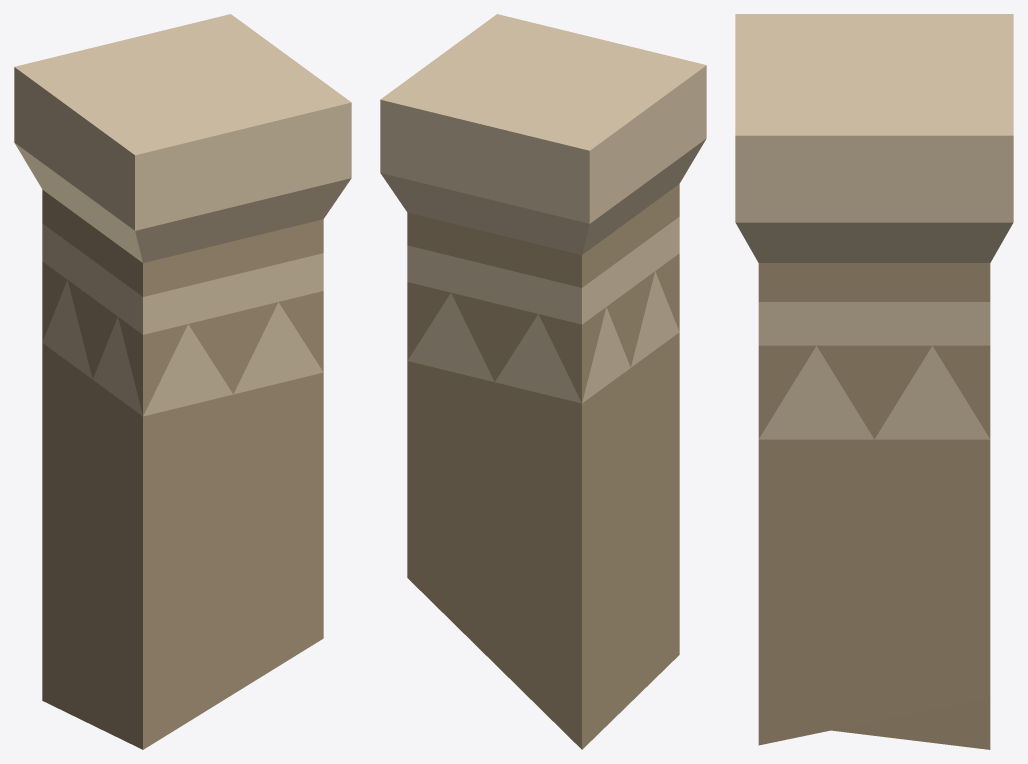
Rendered from LightSandStoneColumnLargeAztecBrokenTop1.fbx.
3 renders of one model, left to right at view 1: azimuth 30°, elevation 25°; view 2: azimuth 150°, elevation 25°; view 3: azimuth 270°, elevation 25°, orthographic. The views are drawn at different scales.
Parts seen in each view (by area): view 1: LightSandStoneColumnLargeAztecBrokenTop1; view 2: LightSandStoneColumnLargeAztecBrokenTop1; view 3: LightSandStoneColumnLargeAztecBrokenTop1.
Boxes of the visible parts, <box> form: LightSandStoneColumnLargeAztecBrokenTop1: <box>14,14,351,749</box>; LightSandStoneColumnLargeAztecBrokenTop1: <box>380,14,706,749</box>; LightSandStoneColumnLargeAztecBrokenTop1: <box>735,14,1013,749</box>.
Size of the model in its own units: 360 by 1002 by 348.
Materials: 2 (2 with a texture image).
